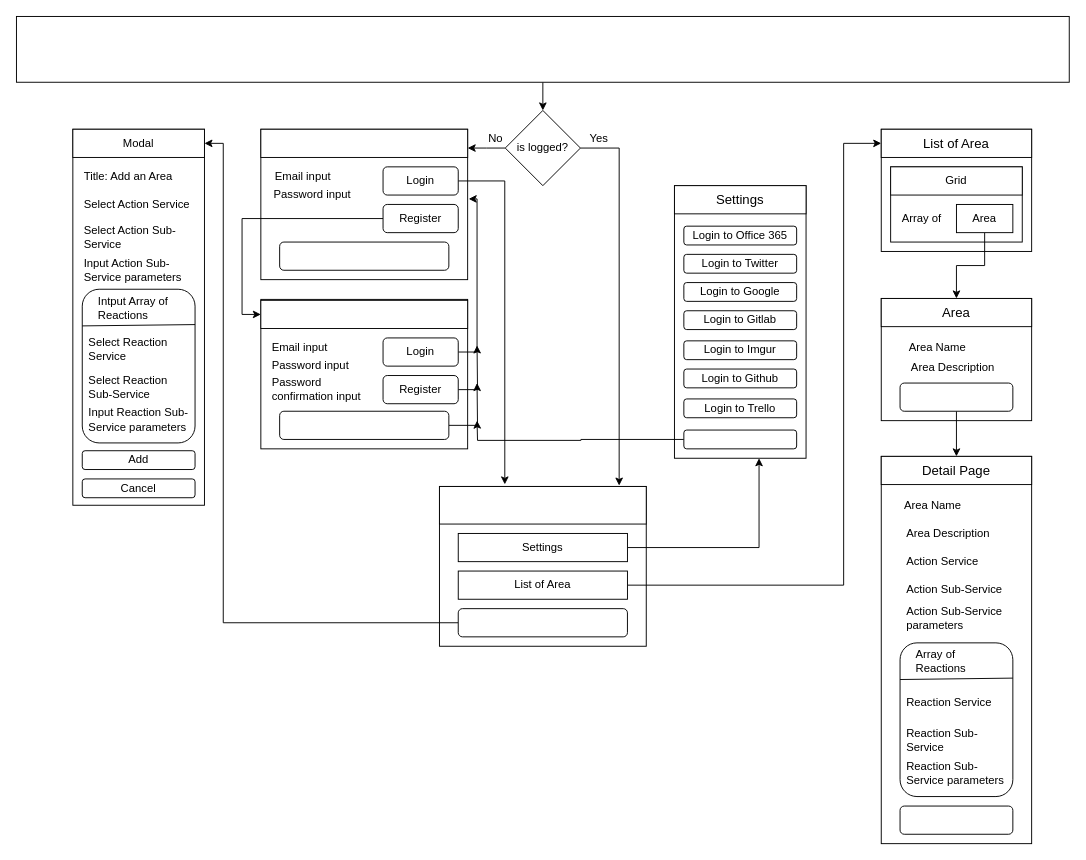
Some shapes in this 1086 by 860 pixel diagram are drawn without their labels. The centre of each missing label's shape, as x and y in pixels:
"Add an Area" belongs at point (542, 622).
"Area - Mobile" belongs at point (542, 49).
"Delete Area" belongs at point (956, 819).
"Home Page" belongs at point (542, 505).
"Login Page" belongs at point (364, 142).
"Login with Google" belongs at point (364, 255).
"Logout" belongs at point (740, 439).
"Open Area Details" belongs at point (956, 396).
"Register Page" belongs at point (364, 314).
"Register with Google" belongs at point (364, 424).
